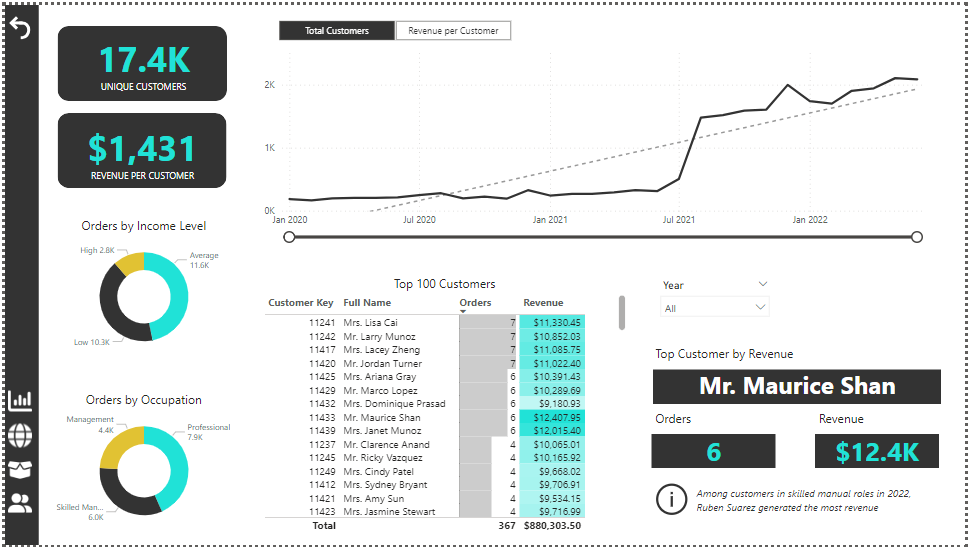

Layout of this report page (visuals, bound fields, positions):
{"tool":"powerbi","page":{"name":"Customer Detail","canvas":[1280,720],"ordinal":3},"visuals":[{"type":"shape","title":"Left Nav Background","box":[0,0,45,720.4],"z":0},{"type":"shape","box":[70,28.3,226,100],"z":0,"group":"g3"},{"type":"card","title":"Total Customers","fields":{"Values":["Measure Table.Total Customers"]},"box":[85,28.3,196.7,100],"z":0,"group":"g5"},{"type":"group","id":"g1","title":"Group 1","box":[861.5,532.6,165,83.3],"z":0,"group":"g7"},{"type":"actionButton","box":[0,553.9,45.7,40],"z":0,"group":"g8"},{"type":"group","id":"g2","title":"KPI","box":[70,28.3,226,217.2],"z":1000},{"type":"group","id":"g3","title":"KPI Background","box":[70,28.3,226,215.2],"z":1000,"group":"g2"},{"type":"shape","box":[70,143.3,225.5,100.2],"z":1000,"group":"g3"},{"type":"card","title":"Revenue per customer","fields":{"Values":["Measure Table.Average Revenue per Customer"]},"box":[86.7,145.5,190,100],"z":1000,"group":"g5"},{"type":"group","id":"g4","title":"Group 2","box":[1079.8,532.6,165,83.3],"z":1000,"group":"g7"},{"type":"actionButton","box":[0.1,599.4,45,40],"z":1000,"group":"g8"},{"type":"group","id":"g5","title":"KPI Values","box":[85,28.3,196.7,217.2],"z":2000,"group":"g2"},{"type":"lineChart","fields":{"Y":["Measure Table.Total Customers"],"Category":["Calendar Lookup.Date Hierarchy.Year","Calendar Lookup.Date Hierarchy.Start of Month","Calendar Lookup.Date Hierarchy.Start of Week","Calendar Lookup.Date Hierarchy.Date"]},"box":[340,50,905,270],"z":2000},{"type":"group","id":"g6","title":"Group 3","box":[861.5,447.6,386,84],"z":2000,"group":"g7"},{"type":"actionButton","box":[0.1,645,45,40],"z":2000,"group":"g8"},{"type":"donutChart","title":"Orders by Income Level","fields":{"Category":["Customer Lookup.Income Level"],"Y":["Measure Table.Total Orders"]},"box":[62,282,246,192],"z":3000},{"type":"actionButton","box":[0.1,508.3,45,40],"z":3000,"group":"g8"},{"type":"donutChart","title":"Orders by Occupation","fields":{"Y":["Measure Table.Total Orders"],"Category":["Customer Lookup.Occupation"]},"box":[62,514,246,192],"z":4000},{"type":"tableEx","title":"Top 100 Customers","fields":{"Values":["Customer Lookup.CustomerKey","Customer Lookup.Full Name","Measure Table.Total Orders","Measure Table.Total Revenue"]},"box":[340.1,360.3,492.3,346.9],"z":5000},{"type":"slicer","fields":{"Values":["Calendar Lookup.Year"]},"box":[863.8,360.3,165.6,67.1],"z":6000},{"type":"card","fields":{"Values":["Measure Table.Full Name (Customer Detail)"]},"box":[863.5,485.6,384,46],"z":6000,"group":"g6"},{"type":"group","id":"g7","title":"Group 4","box":[861.5,447.6,387.1,167.8],"z":7000},{"type":"card","fields":{"Values":["Measure Table.Total Orders (Customer Detail)"]},"box":[861.5,570.9,165,45],"z":7000,"group":"g1"},{"type":"card","fields":{"Values":["Measure Table.Total Revenue (Customer Detail)"]},"box":[1079.8,570.9,165,45],"z":8000,"group":"g4"},{"type":"actionButton","box":[862,632,388,54],"z":8000},{"type":"actionButton","box":[0,10,44.3,40],"z":9000},{"type":"textbox","box":[861.5,447.6,240,40],"z":9000,"group":"g6"},{"type":"group","id":"g8","title":"Navigation Buttons","box":[0,508.3,45.7,176.7],"z":10000},{"type":"textbox","box":[861.5,532.6,165,40],"z":10000,"group":"g1"},{"type":"slicer","fields":{"Values":["Customer Metric Selection.Customer Metric Selection"]},"box":[340,13.3,358.3,36.7],"z":11000},{"type":"textbox","box":[1079.8,532.6,165,40],"z":11000,"group":"g4"}]}

Visuals, with their boxes on the page's 1280x720 design canvas (x1, y1, x2, y2). These are canvas units, not pixel positions in the 968x547 screenshot, which may show the page scaled, cropped or inside an application window:
"Left Nav Background" shape: [left=0, top=0, right=45, bottom=720]
shape: [left=70, top=28, right=296, bottom=128]
"Total Customers" card: [left=85, top=28, right=282, bottom=128]
"Group 1" group: [left=862, top=533, right=1026, bottom=616]
actionButton: [left=0, top=554, right=46, bottom=594]
"KPI" group: [left=70, top=28, right=296, bottom=246]
"KPI Background" group: [left=70, top=28, right=296, bottom=244]
shape: [left=70, top=143, right=296, bottom=244]
"Revenue per customer" card: [left=87, top=146, right=277, bottom=246]
"Group 2" group: [left=1080, top=533, right=1245, bottom=616]
actionButton: [left=0, top=599, right=45, bottom=639]
"KPI Values" group: [left=85, top=28, right=282, bottom=246]
lineChart - Measure Table.Total Customers x Calendar Lookup.Date Hierarchy.Year: [left=340, top=50, right=1245, bottom=320]
"Group 3" group: [left=862, top=448, right=1248, bottom=532]
actionButton: [left=0, top=645, right=45, bottom=685]
"Orders by Income Level" donutChart: [left=62, top=282, right=308, bottom=474]
actionButton: [left=0, top=508, right=45, bottom=548]
"Orders by Occupation" donutChart: [left=62, top=514, right=308, bottom=706]
"Top 100 Customers" tableEx: [left=340, top=360, right=832, bottom=707]
slicer - Calendar Lookup.Year: [left=864, top=360, right=1029, bottom=427]
card - Measure Table.Full Name (Customer Detail): [left=864, top=486, right=1248, bottom=532]
"Group 4" group: [left=862, top=448, right=1249, bottom=615]
card - Measure Table.Total Orders (Customer Detail): [left=862, top=571, right=1026, bottom=616]
card - Measure Table.Total Revenue (Customer Detail): [left=1080, top=571, right=1245, bottom=616]
actionButton: [left=862, top=632, right=1250, bottom=686]
actionButton: [left=0, top=10, right=44, bottom=50]
textbox: [left=862, top=448, right=1102, bottom=488]
"Navigation Buttons" group: [left=0, top=508, right=46, bottom=685]
textbox: [left=862, top=533, right=1026, bottom=573]
slicer - Customer Metric Selection.Customer Metric Selection: [left=340, top=13, right=698, bottom=50]
textbox: [left=1080, top=533, right=1245, bottom=573]
